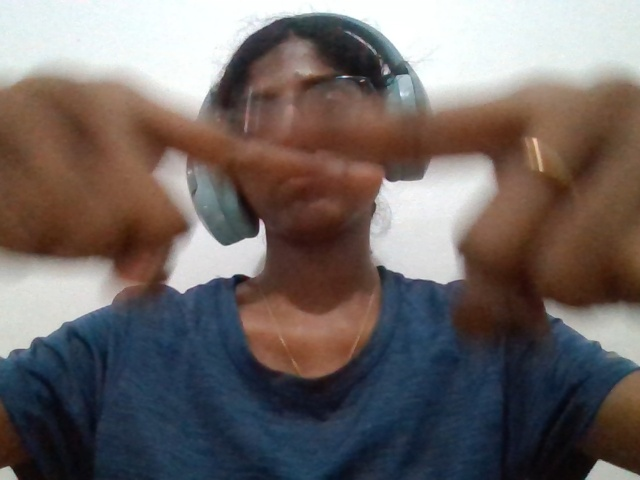Sign: (6, 30, 640, 400)
